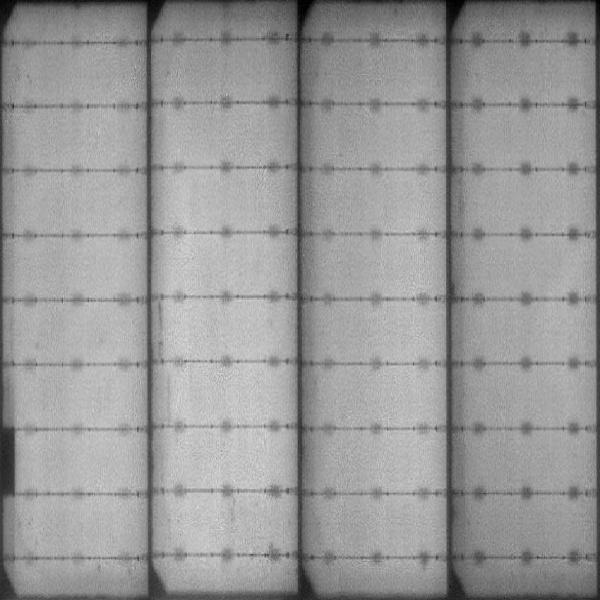black_border: (1, 423, 18, 499)
scratch: (156, 297, 170, 359)
